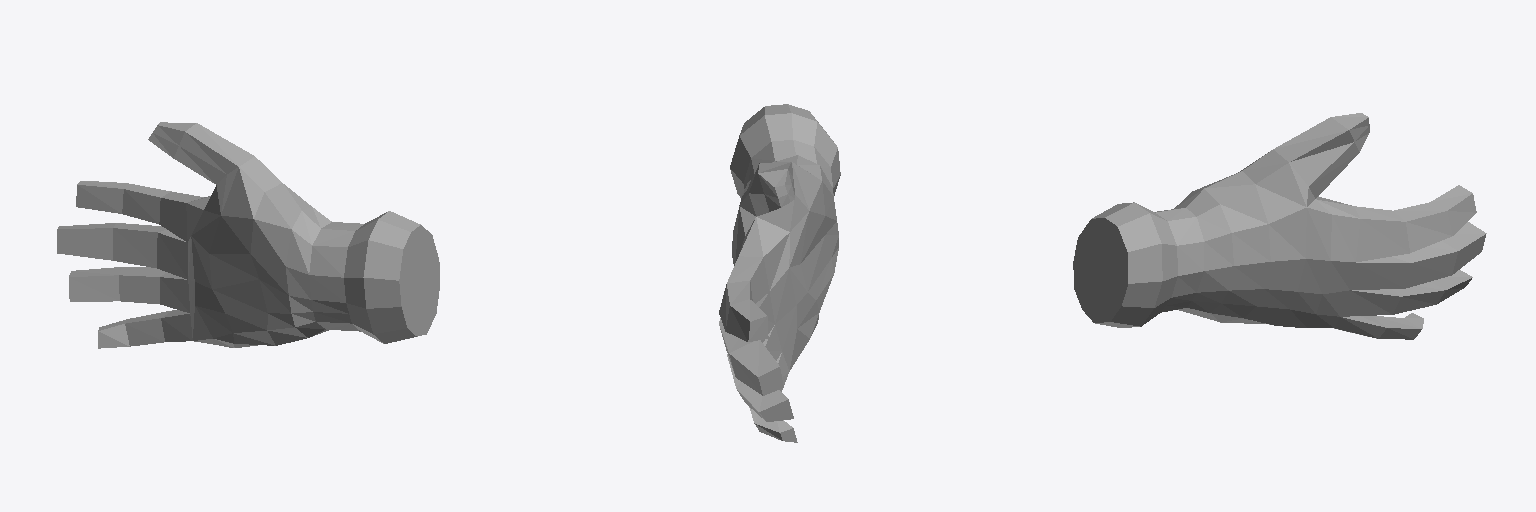
The model's file is hand.obj.
3 views of the same model, side by side, from view 1: azimuth 30°, elevation 25°; view 2: azimuth 150°, elevation 25°; view 3: azimuth 270°, elevation 25° (orthographic).
Visible parts, largest first — view 1: Cylinder.003_Cylinder.005; view 2: Cylinder.003_Cylinder.005; view 3: Cylinder.003_Cylinder.005.
Boxes of the visible parts, <box> form: Cylinder.003_Cylinder.005: <box>57,122,439,348</box>; Cylinder.003_Cylinder.005: <box>719,104,840,442</box>; Cylinder.003_Cylinder.005: <box>1073,113,1486,339</box>.
Bounding box in the file's own units: 1.35 × 1.4 × 2.25.